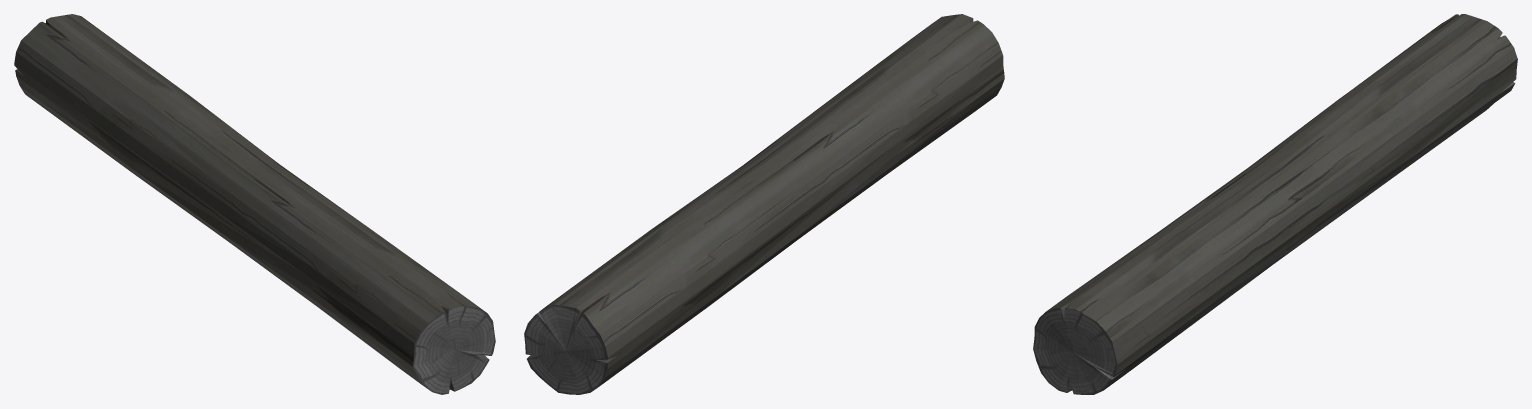
The model's file is Log.fbx.
3 views of the same model, side by side, from view 1: azimuth 30°, elevation 25°; view 2: azimuth 150°, elevation 25°; view 3: azimuth 330°, elevation 25° (orthographic).
Visible parts, largest first — view 1: SM_ENV_NATURE_ForestTree_Log_Long_01.mo; view 2: SM_ENV_NATURE_ForestTree_Log_Long_01.mo; view 3: SM_ENV_NATURE_ForestTree_Log_Long_01.mo.
Part boxes in pixels (x1,y1,x2,y2): SM_ENV_NATURE_ForestTree_Log_Long_01.mo: [14, 14, 495, 394]; SM_ENV_NATURE_ForestTree_Log_Long_01.mo: [524, 14, 1004, 394]; SM_ENV_NATURE_ForestTree_Log_Long_01.mo: [1033, 14, 1517, 394].
Bounding box in the file's own units: 60.36 × 59.96 × 500.
1 material, 1 textured.
